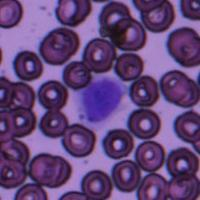L: (77, 74, 125, 124)
